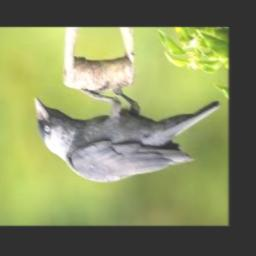Crow: (36, 82, 222, 183)
